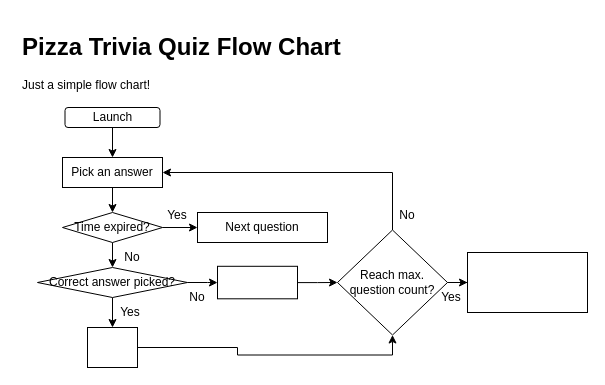
Image size: 605x385. Some labels were removed from this diagram. Here are the shapes that lost their labels. From the top down, the centre of each, then its label:
(x=257, y=282): Deduct score
(x=527, y=282): Game finish = show final score
(x=112, y=347): Increase score
